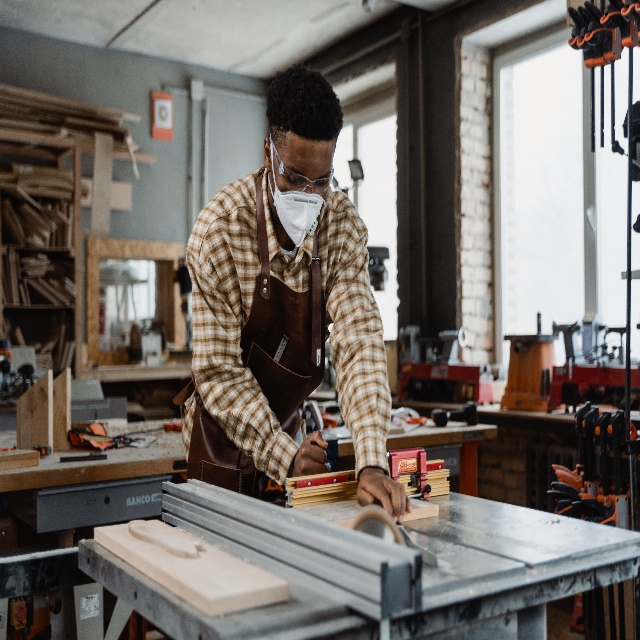Gafas: (273, 141, 338, 193)
Mascara: (275, 188, 324, 246)
Sin_guantes: (357, 473, 412, 524), (292, 429, 328, 474)
